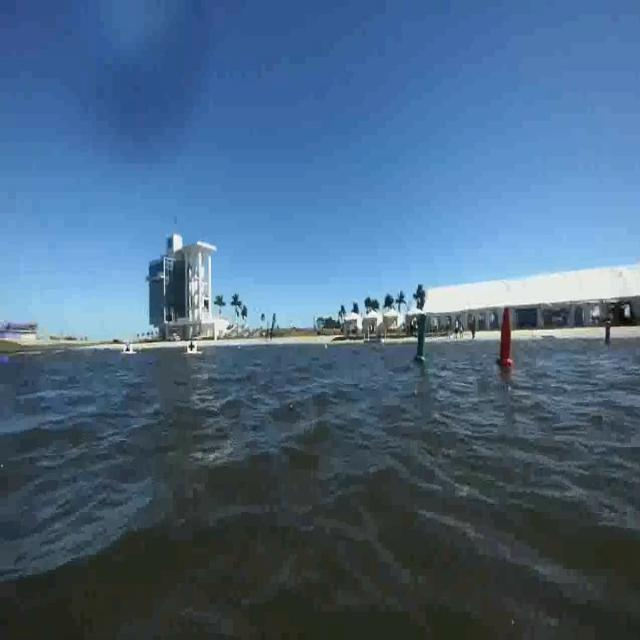green-column-buoy: (414, 315, 430, 365)
red-column-buoy: (495, 308, 515, 369)
